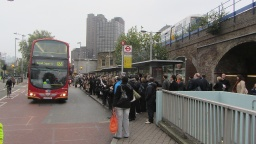bus: (28, 36, 70, 104)
